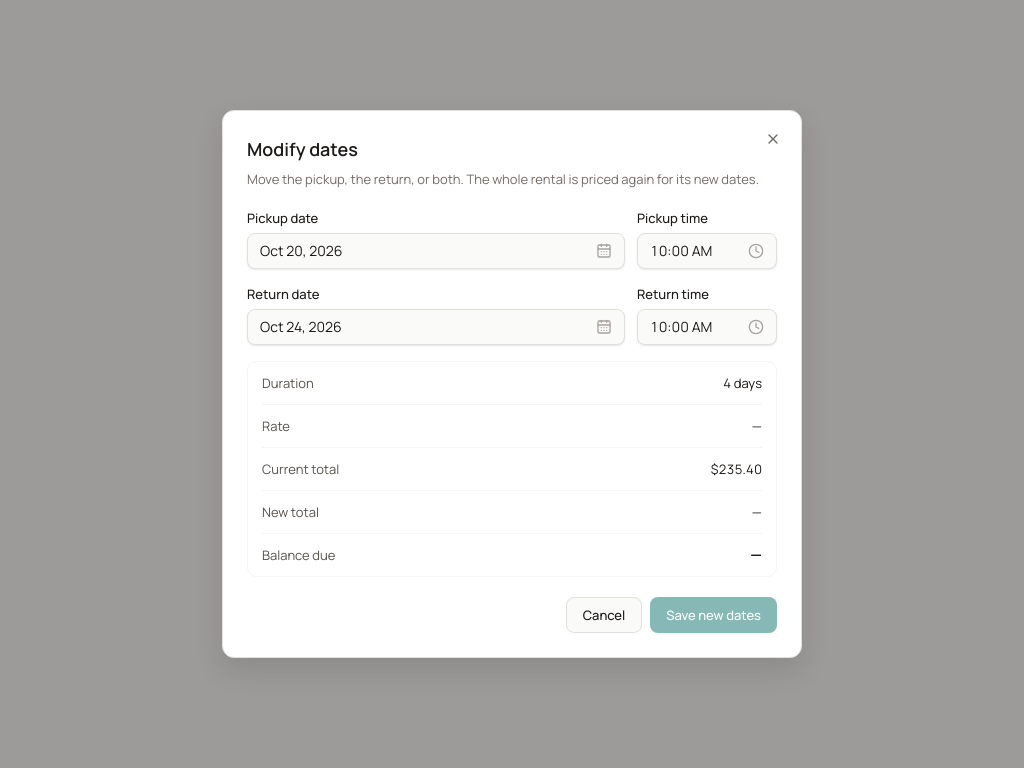
Test: BookingDatesDialog › says the new length at once, and holds the other figures steady while a price loads
Click the button named "Return time".
click(707, 327)  # box [637,309,777,345]
(page scrolled)
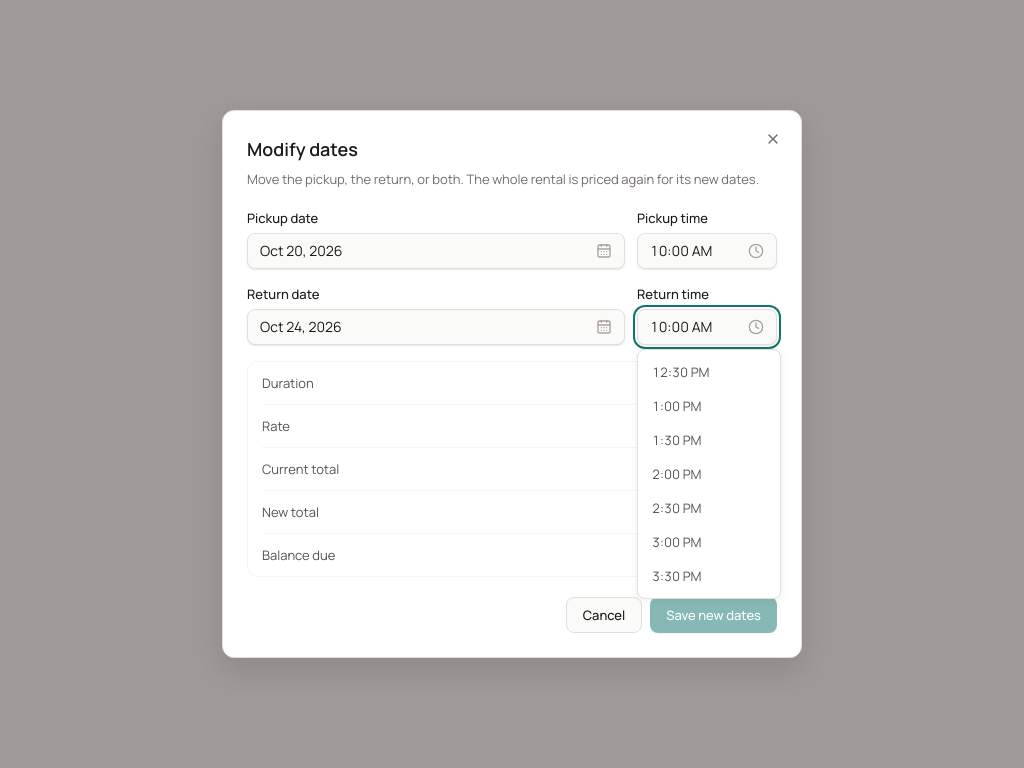
Click the option "2:00 PM".
click(709, 474)  # box [642,457,776,491]
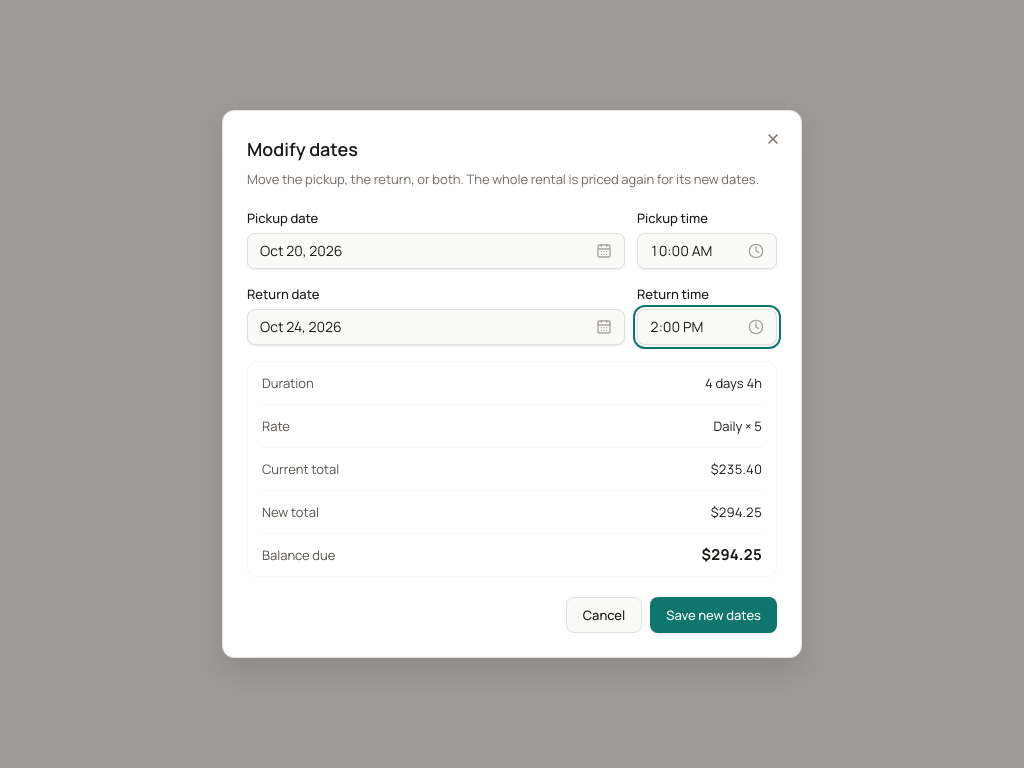
Expected: the text "$294.25" is shown 2 times, [711,501,762,523]; [702,544,762,566]
Click the button named "Return time".
click(707, 327)  # box [637,309,777,345]
(page scrolled)
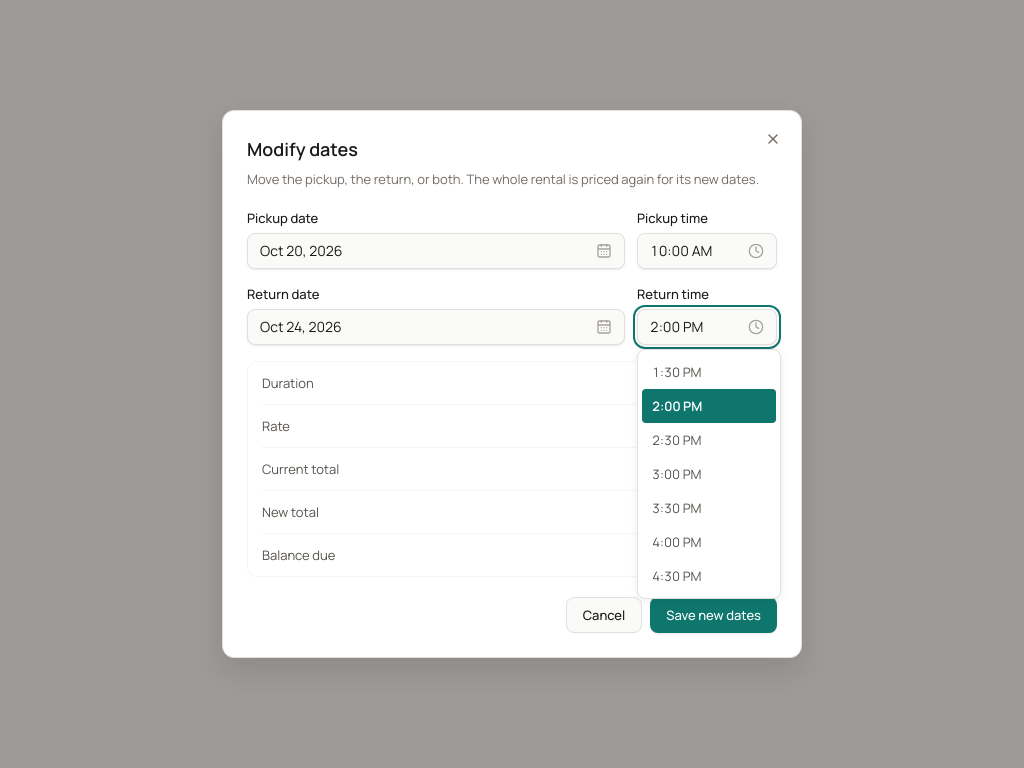
Click the option "3:00 PM".
click(709, 474)  # box [642,457,776,491]
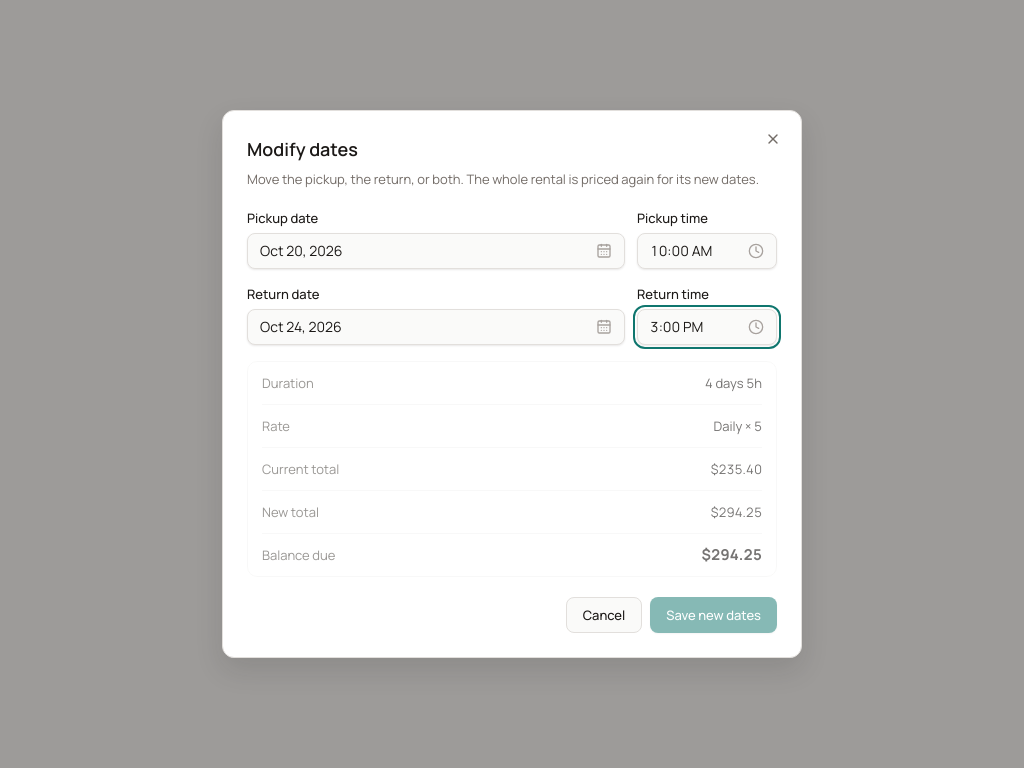
Expected: the text "$294.25" in the row of "New total" is shown, [711,503,762,521]
Expected: the text "4 days 5h" is shown, [705,372,762,394]
Expected: the button "Save new dates" is disabled, [650,597,777,633]
